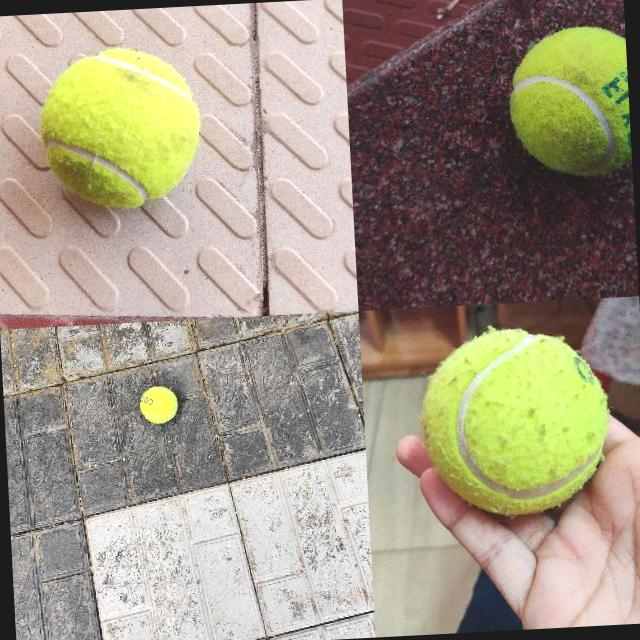Tennis Ball: (416, 323, 614, 519), (38, 45, 206, 212), (506, 24, 633, 180), (138, 384, 179, 424)
